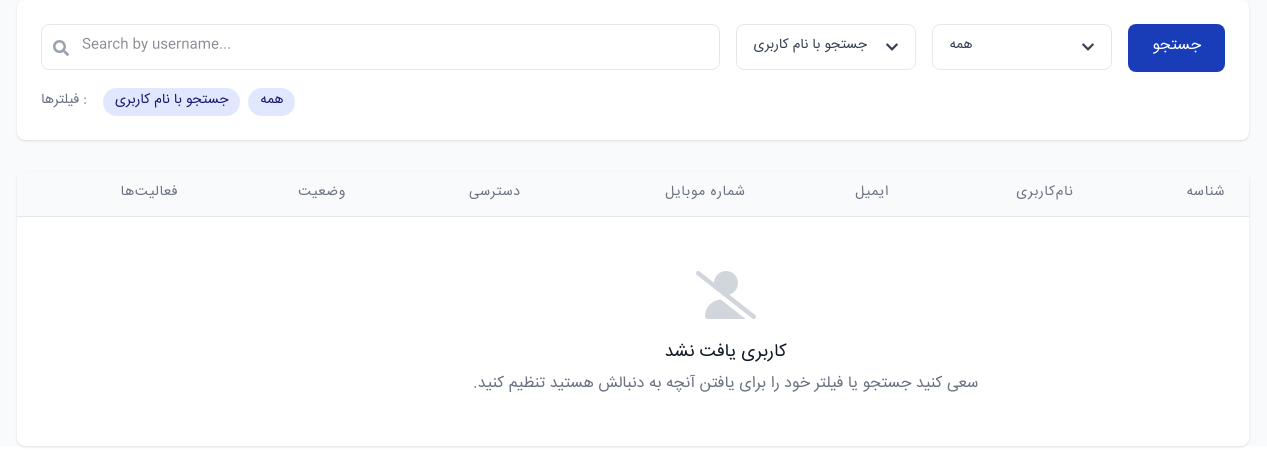
UserManagement Component - Tests › renders component correctly
This screenshot has width=1267, height=464.
Note: تغییر مقدار searchTerm برای نمایش دکمه پاک کردن
Type "john" into the field with placeholder "Search by username...".
click(381, 47); type("john")  # box [41,24,720,70]
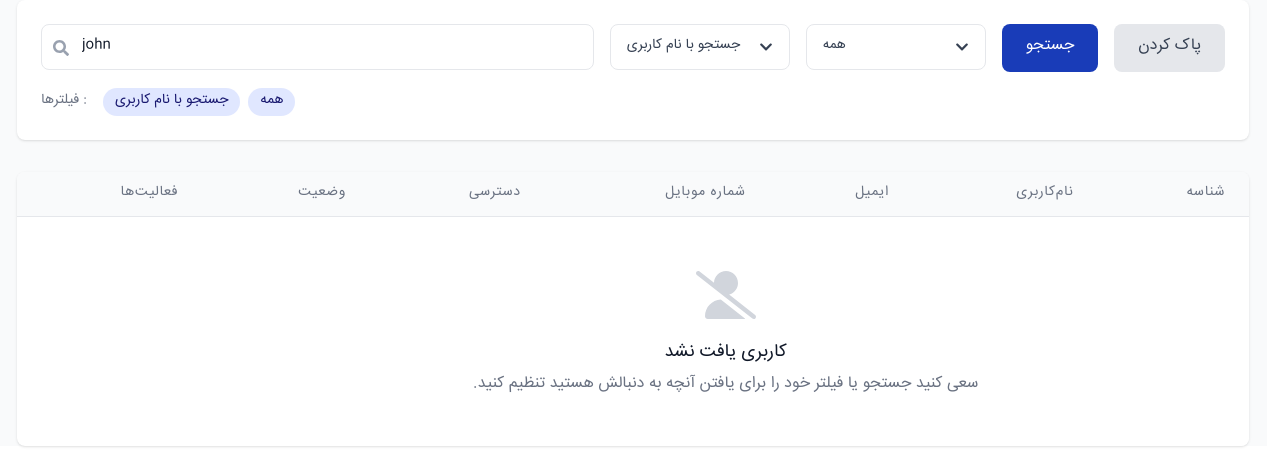
Expected: the button "جستجو با نام کاربری" is shown, [610,24,790,70]
Expected: the button "پاک کردن" is shown, [1114,24,1225,72]
